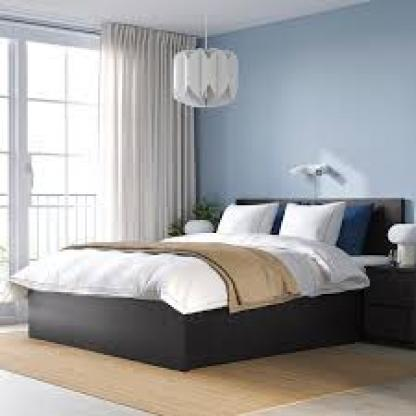Bed: (19, 188, 396, 369)
Curtains: (90, 19, 206, 254)
